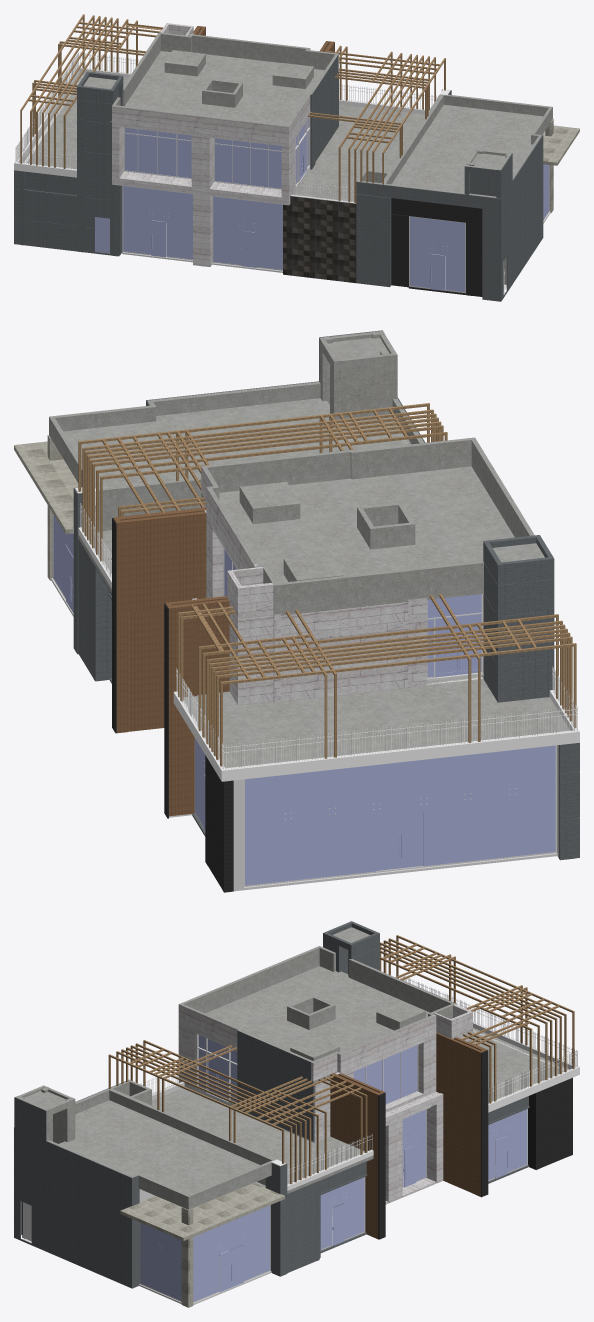
3 renders of one model, top to bottom at view 1: azimuth 30°, elevation 25°; view 2: azimuth 150°, elevation 25°; view 3: azimuth 270°, elevation 25°, orthographic. The views are drawn at different scales.
Visible parts, largest first — view 1: Floor SLAB-G.F [346819], Generic Models 6 Generic Models 1 [533984], Floor SLAB-G.F [355493], Floor SLAB-G.F [353028], CANOPY1 CANOPY-1 [477530], Generic Models 5 Generic Models 1 [527775], CANOPY-1 CANOPY-1 [472952], Basic Wall Generic - 250mm Masonry [570060], Basic Wall Generic - 200mm Masonry [375870], Generic Models 4 Generic Models 1 [533801], Basic Wall Generic - 200mm Masonry [518956], Basic Wall Generic - 200mm Masonry [376184] (+58 smaller); view 2: Floor SLAB-G.F [346819], Floor SLAB-G.F [355493], CANOPY-1 CANOPY-1 [472952], CANOPY1 CANOPY-1 [477530], Floor SLAB-G.F [353028], Basic Wall Generic - 300mm Masonry [372272], Basic Wall Generic - 200mm Masonry [372669], Basic Wall Generic - 200mm Masonry [376066], rail1 rail-24 [405029], Basic Wall Generic - 75mm Masonry [550440], Basic Wall Generic - 200mm Masonry [366659], Basic Wall Generic - 200mm Masonry [375740] (+54 smaller); view 3: Generic Models 6 Generic Models 1 [533984], Floor SLAB-G.F [353028], Floor SLAB-G.F [346819], Floor SLAB-G.F [355493], CANOPY1 CANOPY-1 [477530], CANOPY-1 CANOPY-1 [472952], Floor Generic 50MM [395863], Basic Wall Generic - 200mm Masonry [375870], Basic Wall Generic - 200mm Masonry [367878], Basic Wall Generic - 300mm Masonry [646240], Basic Wall Generic - 200mm Masonry [366384], Basic Wall Generic - 200mm Masonry [359060] (+48 smaller).
Boxes of the visible parts, left/top/right/bottom form: Floor SLAB-G.F [346819]: left=14, top=72, right=579, bottom=204; Generic Models 6 Generic Models 1 [533984]: left=356, top=133, right=543, bottom=301; Floor SLAB-G.F [355493]: left=112, top=51, right=338, bottom=146; Floor SLAB-G.F [353028]: left=392, top=104, right=552, bottom=192; CANOPY1 CANOPY-1 [477530]: left=308, top=45, right=445, bottom=202; Generic Models 5 Generic Models 1 [527775]: left=283, top=196, right=356, bottom=283; CANOPY-1 CANOPY-1 [472952]: left=20, top=14, right=163, bottom=168; Basic Wall Generic - 250mm Masonry [570060]: left=391, top=198, right=482, bottom=296; Basic Wall Generic - 200mm Masonry [375870]: left=112, top=105, right=286, bottom=143; Generic Models 4 Generic Models 1 [533801]: left=356, top=194, right=391, bottom=287; Basic Wall Generic - 200mm Masonry [518956]: left=23, top=189, right=76, bottom=251; Basic Wall Generic - 200mm Masonry [376184]: left=192, top=34, right=306, bottom=65; Floor SLAB-G.F [346819]: left=14, top=446, right=579, bottom=781; Floor SLAB-G.F [355493]: left=201, top=466, right=514, bottom=615; CANOPY-1 CANOPY-1 [472952]: left=178, top=594, right=576, bottom=766; CANOPY1 CANOPY-1 [477530]: left=78, top=403, right=447, bottom=561; Floor SLAB-G.F [353028]: left=49, top=398, right=410, bottom=509; Basic Wall Generic - 300mm Masonry [372272]: left=281, top=602, right=408, bottom=701; Basic Wall Generic - 200mm Masonry [372669]: left=120, top=511, right=206, bottom=612; Basic Wall Generic - 200mm Masonry [376066]: left=273, top=561, right=483, bottom=611; rail1 rail-24 [405029]: left=176, top=666, right=577, bottom=769; Basic Wall Generic - 75mm Masonry [550440]: left=168, top=604, right=197, bottom=816; Basic Wall Generic - 200mm Masonry [366659]: left=128, top=608, right=164, bottom=731; Basic Wall Generic - 200mm Masonry [375740]: left=206, top=450, right=350, bottom=492; Generic Models 6 Generic Models 1 [533984]: left=14, top=1079, right=139, bottom=1288; Floor SLAB-G.F [353028]: left=53, top=1100, right=271, bottom=1209; Floor SLAB-G.F [346819]: left=120, top=1028, right=579, bottom=1240; Floor SLAB-G.F [355493]: left=178, top=966, right=429, bottom=1083; CANOPY1 CANOPY-1 [477530]: left=108, top=1040, right=367, bottom=1184; CANOPY-1 CANOPY-1 [472952]: left=380, top=935, right=574, bottom=1103; Floor Generic 50MM [395863]: left=120, top=1182, right=284, bottom=1237; Basic Wall Generic - 200mm Masonry [375870]: left=181, top=946, right=321, bottom=1013; Basic Wall Generic - 200mm Masonry [367878]: left=443, top=1099, right=474, bottom=1194; Basic Wall Generic - 300mm Masonry [646240]: left=246, top=1056, right=315, bottom=1141; Basic Wall Generic - 200mm Masonry [366384]: left=287, top=1182, right=316, bottom=1272; Basic Wall Generic - 200mm Masonry [359060]: left=540, top=1079, right=569, bottom=1167.
Size of the model in its own units: 34.39 by 11.67 by 33.83.
Materials: 11 (8 with a texture image).
